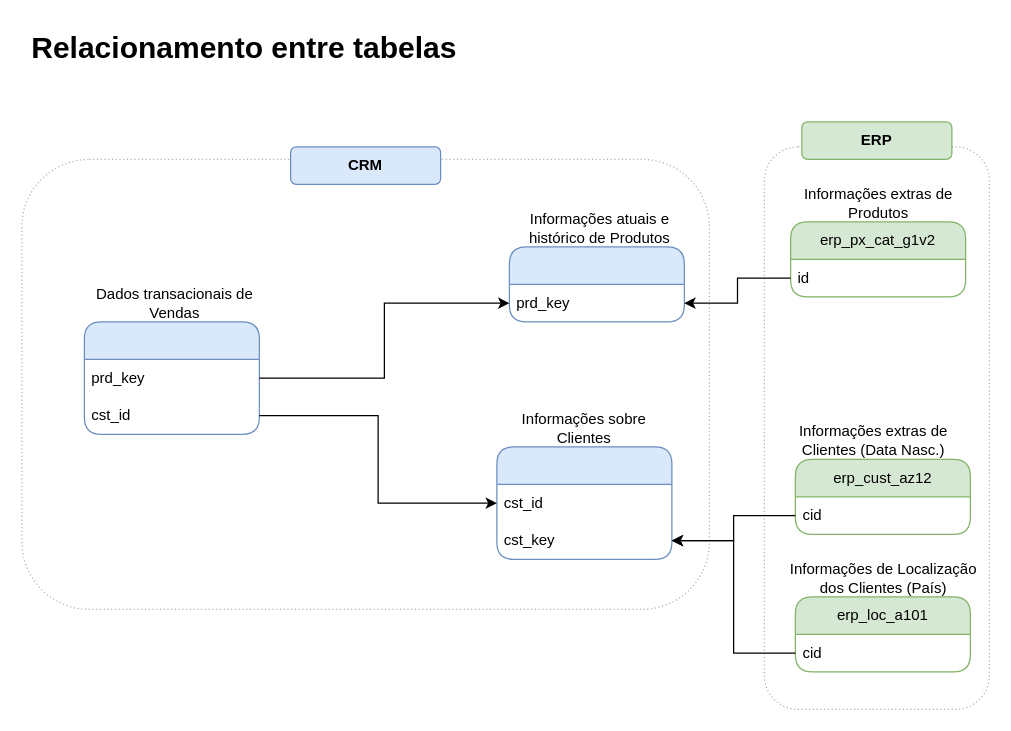
This 1011x731 diagram has some shape labels left out. Here are the shapes that lost their labels. From the top down, the box of each, then its label:
(508, 246, 684, 322): crm_prd_info
(83, 321, 259, 434): crm_sales_details
(496, 446, 672, 559): crm_cust_info
